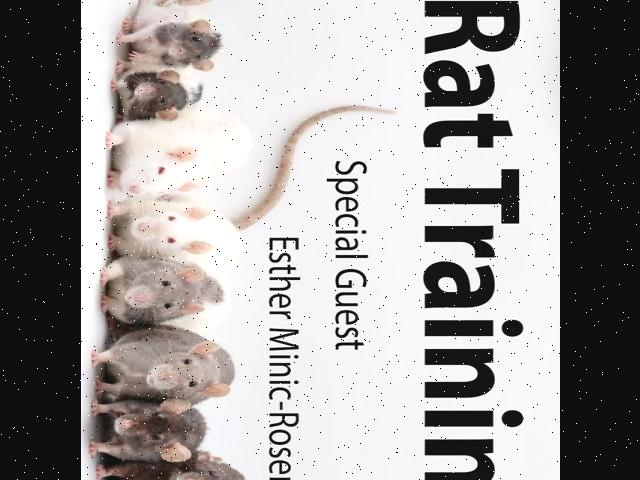Tikus: (109, 114, 251, 202), (97, 324, 235, 406), (100, 252, 222, 328), (88, 396, 206, 466), (110, 0, 219, 70), (107, 204, 240, 248), (114, 70, 204, 123), (99, 453, 248, 480)
